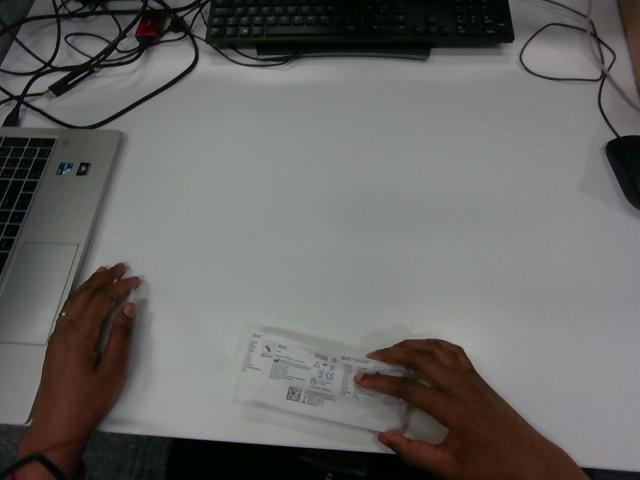syringe: (236, 327, 406, 430)
